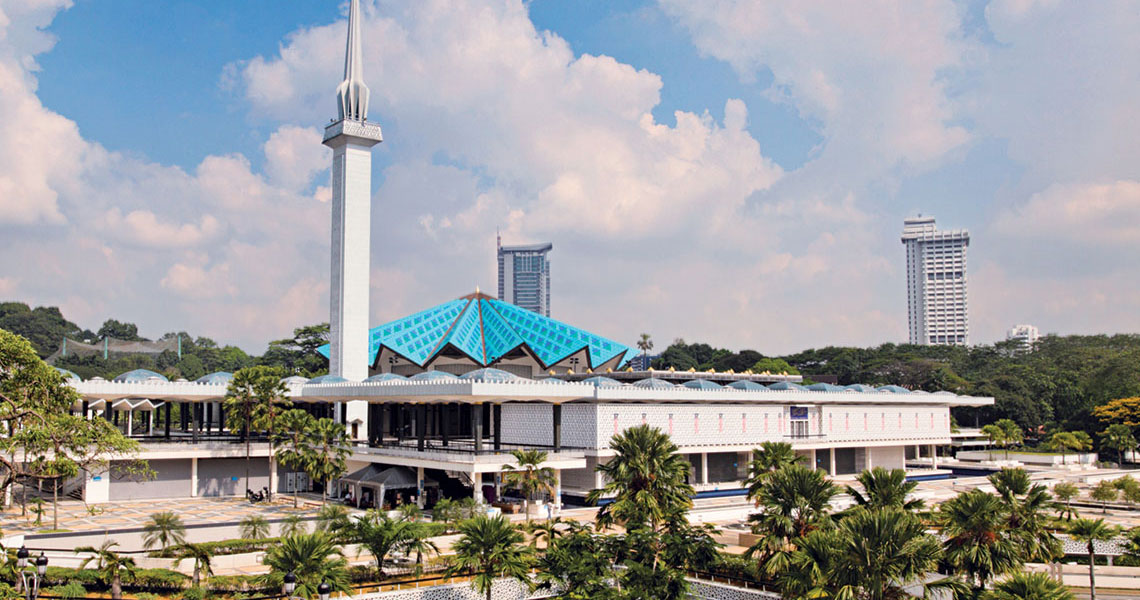Mosque: (299, 9, 631, 408)
